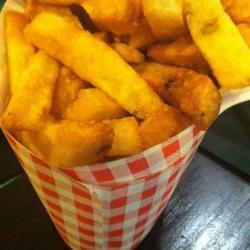fries: (16, 4, 191, 138)
